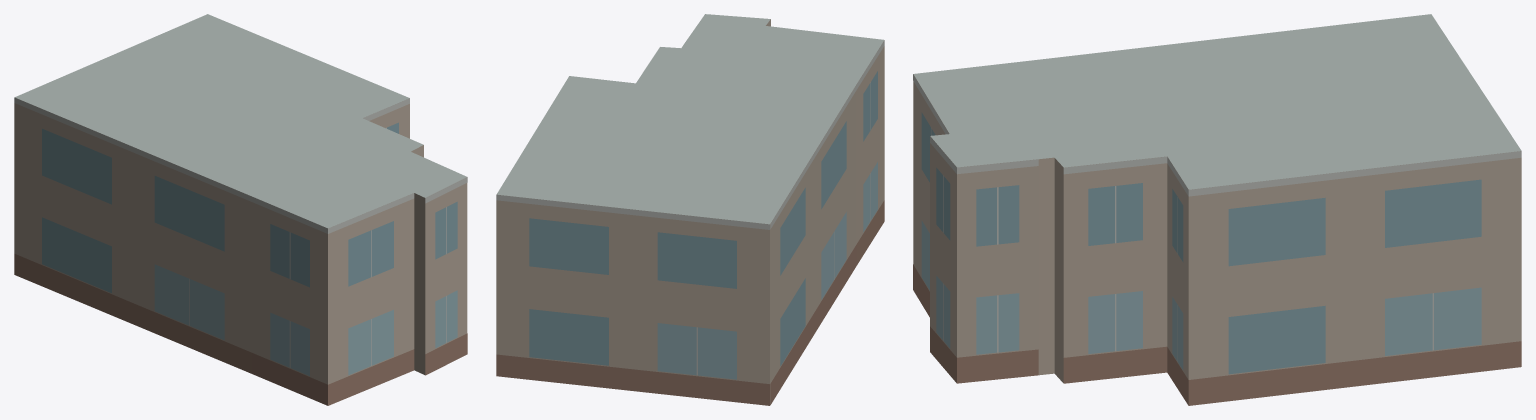
Rendered from survey-upis-32623844.glb.
3 renders of one model, left to right at view 1: azimuth 30°, elevation 25°; view 2: azimuth 150°, elevation 25°; view 3: azimuth 270°, elevation 25°, orthographic. The views are drawn at different scales.
Visible parts, largest first — view 1: survey-upis-32623844.tmp; view 2: survey-upis-32623844.tmp; view 3: survey-upis-32623844.tmp.
Boxes of the visible parts, <box> form: survey-upis-32623844.tmp: <box>14,14,467,405</box>; survey-upis-32623844.tmp: <box>496,14,884,405</box>; survey-upis-32623844.tmp: <box>913,14,1521,405</box>.
Size of the model in its own units: 13.62 by 7.8 by 19.92.
